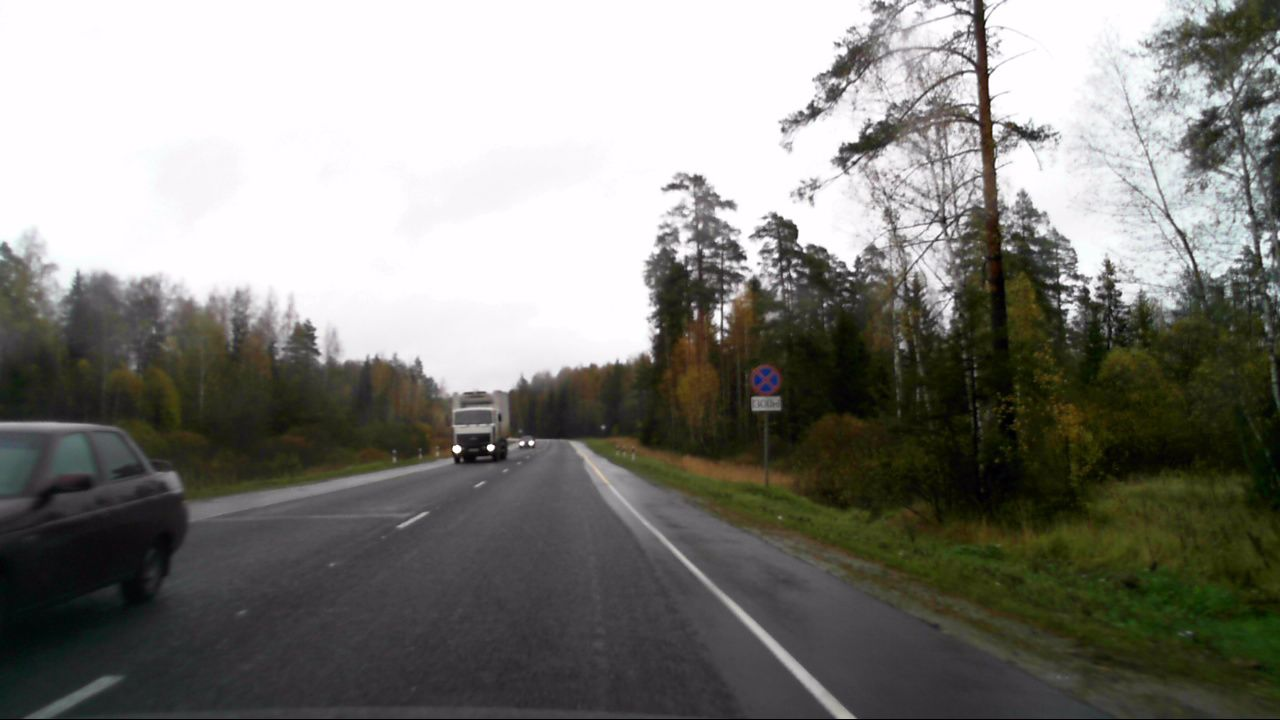No Parking: (749, 360, 785, 399)
